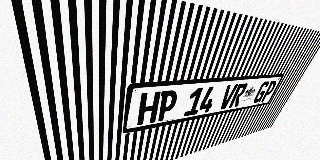1: (183, 87, 206, 117)
4: (197, 86, 219, 114)
G: (252, 81, 271, 103)
H: (137, 91, 161, 126)
P: (156, 90, 179, 122), (260, 80, 278, 102)
R: (228, 83, 248, 108)
V: (218, 84, 238, 110)
